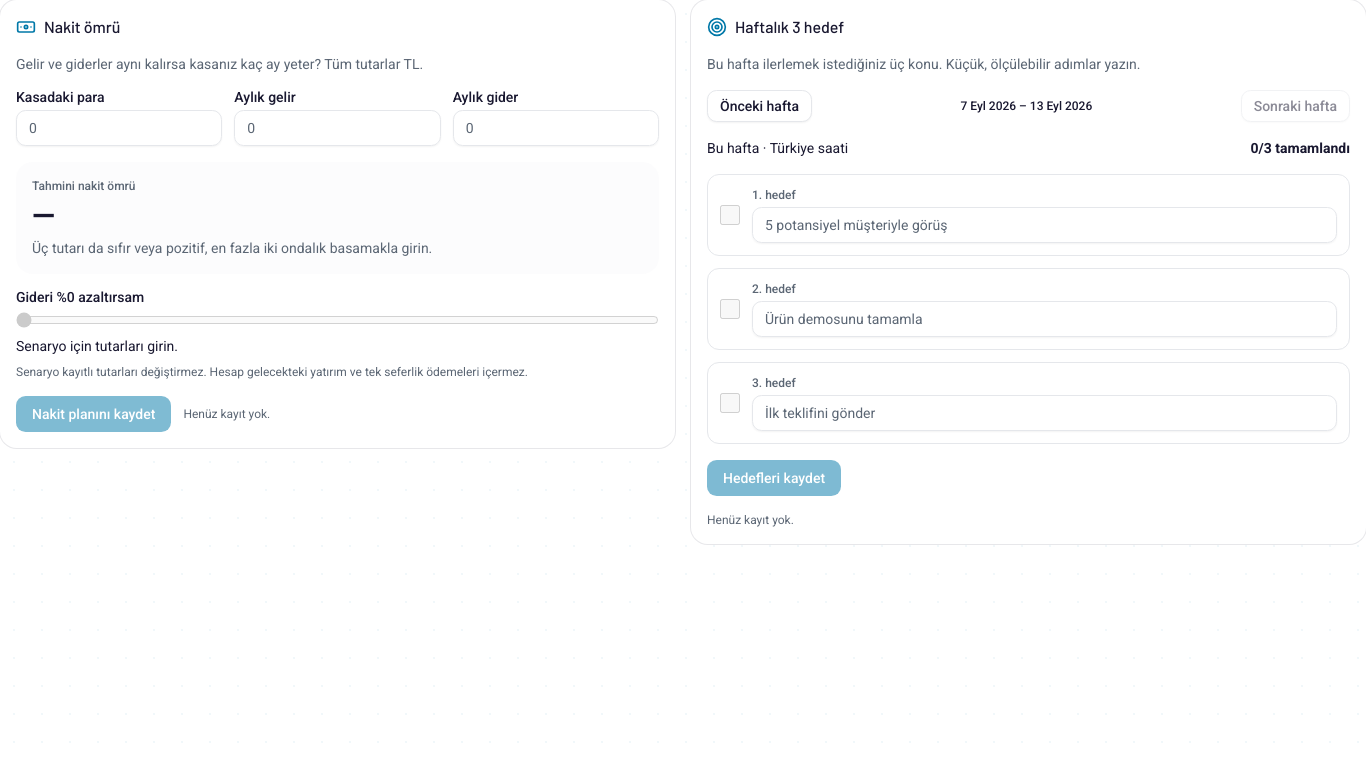
Girişimci araçları › boş hedefin tamamlanmasını engeller, düzenlerken haftayı kilitler, kaydeder
Check: the checkbox named "1. hedef tamamlandı" is disabled, box [720,205,740,225]
Type "Müşteri görüşmesi" into the field labelled "1. hedef" at [1044, 225], box [752,207,1337,243]
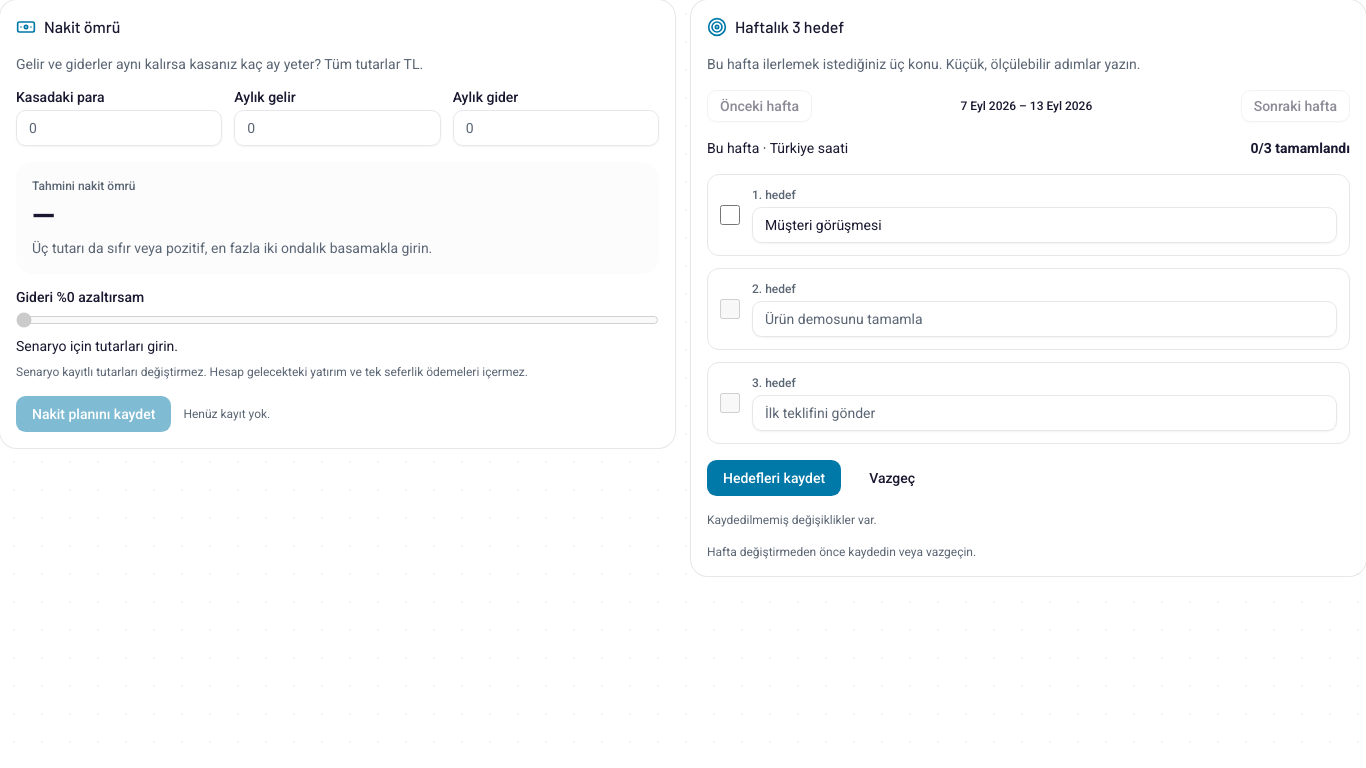
Click the checkbox named "1. hedef tamamlandı" at [730, 215], box [720,205,740,225]
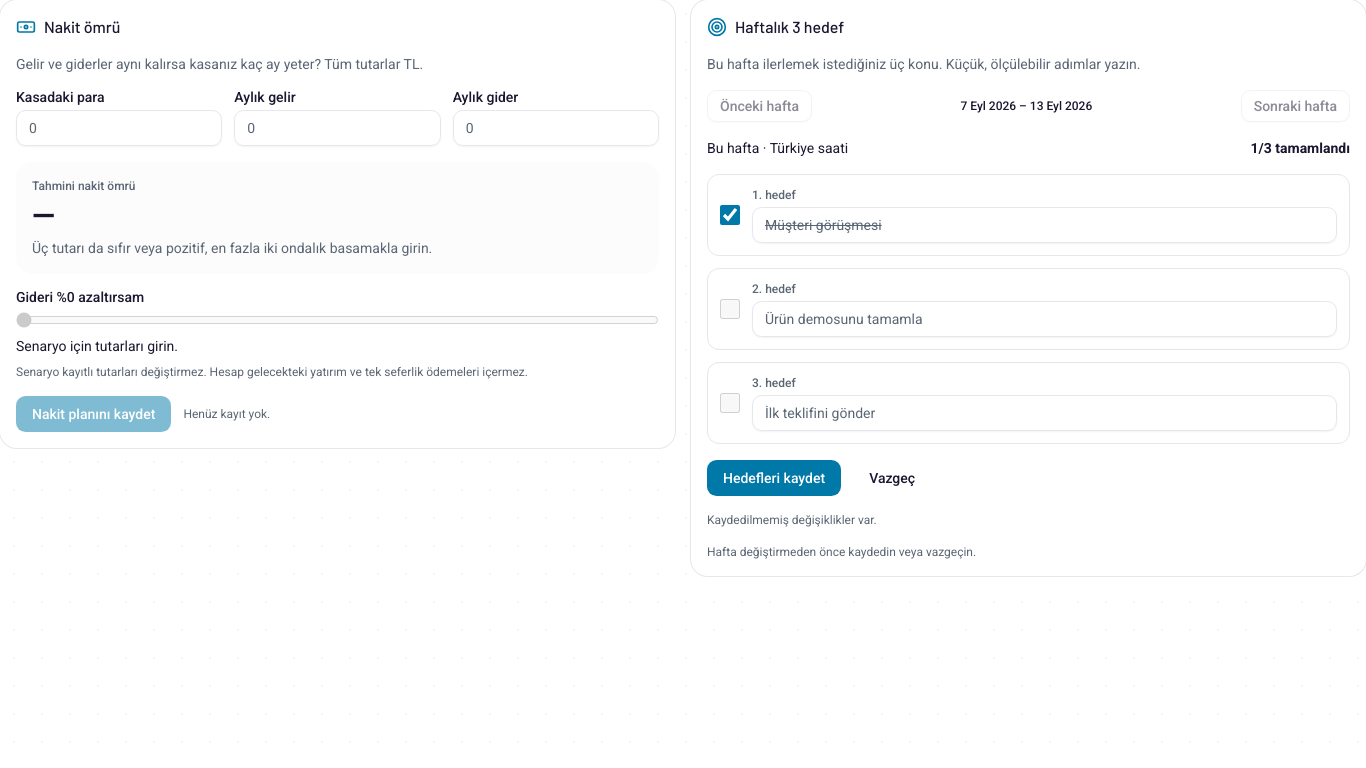
Check: the button "Önceki hafta" is disabled, box [707,90,812,122]
Check: the text "1/3 tamamlandı" is shown, box [1250,138,1350,158]
Click the button "Hedefleri kaydet" at [774, 478], box [707,460,841,496]
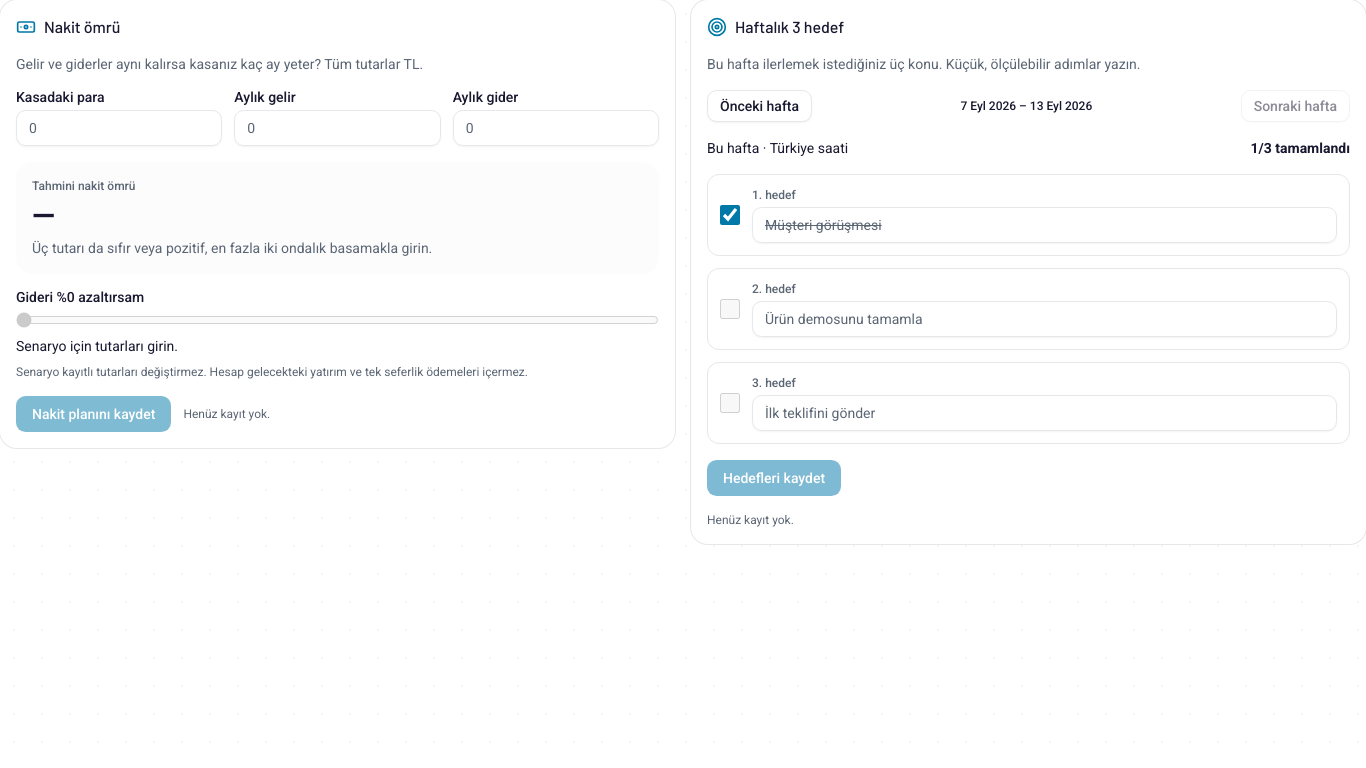
Check: the button "Önceki hafta" is enabled, box [707,90,812,122]
